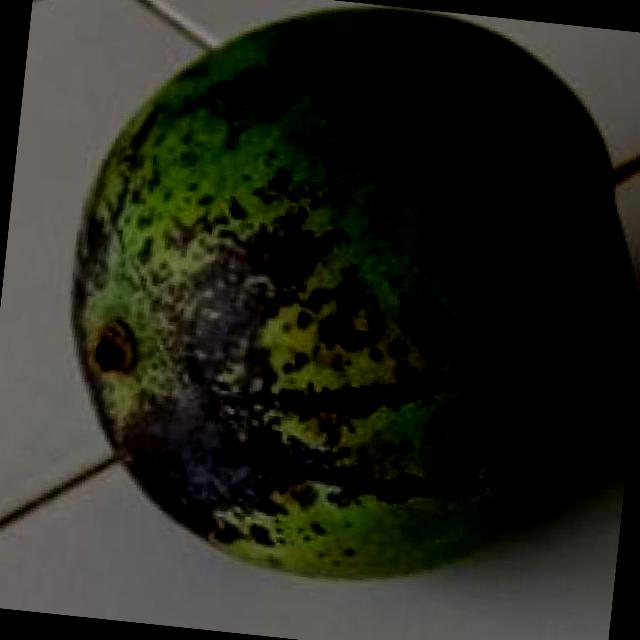Mango: (41, 0, 640, 600)
